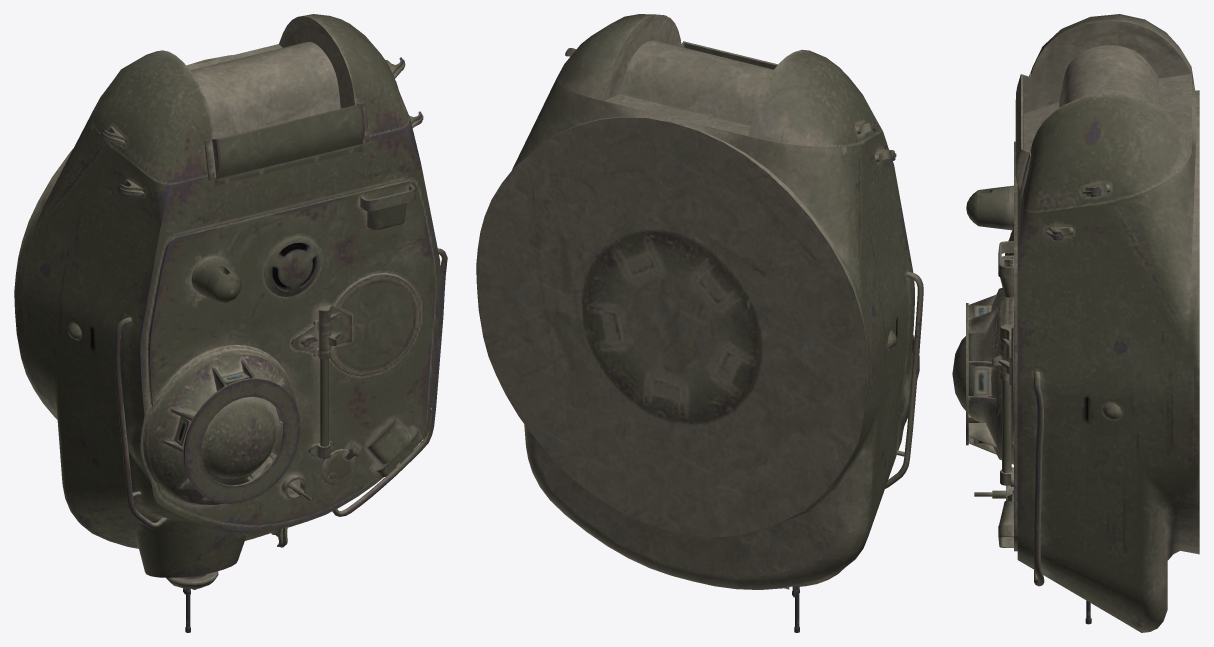
Rendered from Turret_02.glb.
3 views of the same model, side by side, from view 1: azimuth 30°, elevation 25°; view 2: azimuth 150°, elevation 25°; view 3: azimuth 270°, elevation 25° (orthographic). The views are drawn at different scales.
Visible parts, largest first — view 1: set_0_group_0; view 2: set_0_group_0; view 3: set_0_group_0.
Boxes of the visible parts, x1=… form: set_0_group_0: x1=14, y1=14, x2=447, y2=632; set_0_group_0: x1=476, y1=14, x2=923, y2=632; set_0_group_0: x1=952, y1=14, x2=1199, y2=632.
Size of the model in its own units: 1.96 by 2.79 by 1.04.
Materials: 1 (1 with a texture image).
